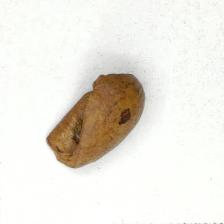NG: (44, 84, 97, 162)
